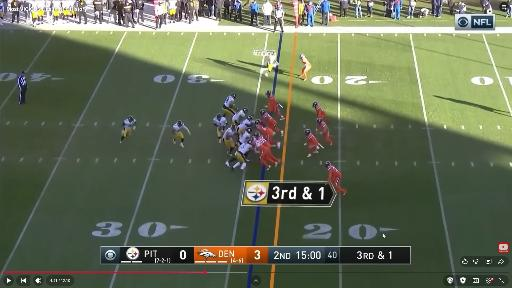Helmet: (259, 109, 266, 116), (254, 131, 261, 138), (230, 124, 236, 131), (265, 90, 271, 97), (177, 120, 183, 126), (246, 128, 252, 133), (325, 162, 331, 167), (305, 130, 311, 135), (316, 118, 322, 123), (128, 116, 133, 121), (247, 116, 252, 121), (231, 93, 236, 98), (216, 114, 221, 119), (312, 102, 317, 107), (300, 54, 305, 59), (243, 108, 247, 113), (251, 137, 256, 141), (255, 120, 260, 124), (271, 51, 275, 55)
Jersey: (257, 125, 273, 136), (232, 110, 245, 123), (268, 95, 278, 111), (173, 124, 189, 133), (238, 143, 251, 154), (214, 117, 227, 128), (239, 132, 251, 143), (307, 134, 318, 145), (223, 128, 234, 139), (224, 96, 234, 107), (328, 166, 340, 175), (123, 119, 135, 128), (316, 106, 325, 118), (267, 55, 277, 65), (318, 122, 328, 132), (253, 138, 264, 147), (263, 113, 274, 121), (241, 119, 251, 127), (302, 58, 311, 66)
Player: (252, 137, 280, 170), (226, 141, 251, 170), (255, 120, 280, 148), (325, 162, 346, 195), (260, 110, 283, 136), (266, 91, 284, 120), (172, 121, 190, 147), (317, 118, 333, 145), (119, 116, 135, 143), (312, 102, 330, 123), (305, 130, 319, 157), (214, 114, 227, 143), (223, 125, 235, 155), (237, 116, 253, 138), (253, 131, 272, 149), (265, 51, 278, 76), (231, 107, 248, 126), (223, 93, 236, 117), (300, 55, 311, 81), (239, 128, 251, 145)
